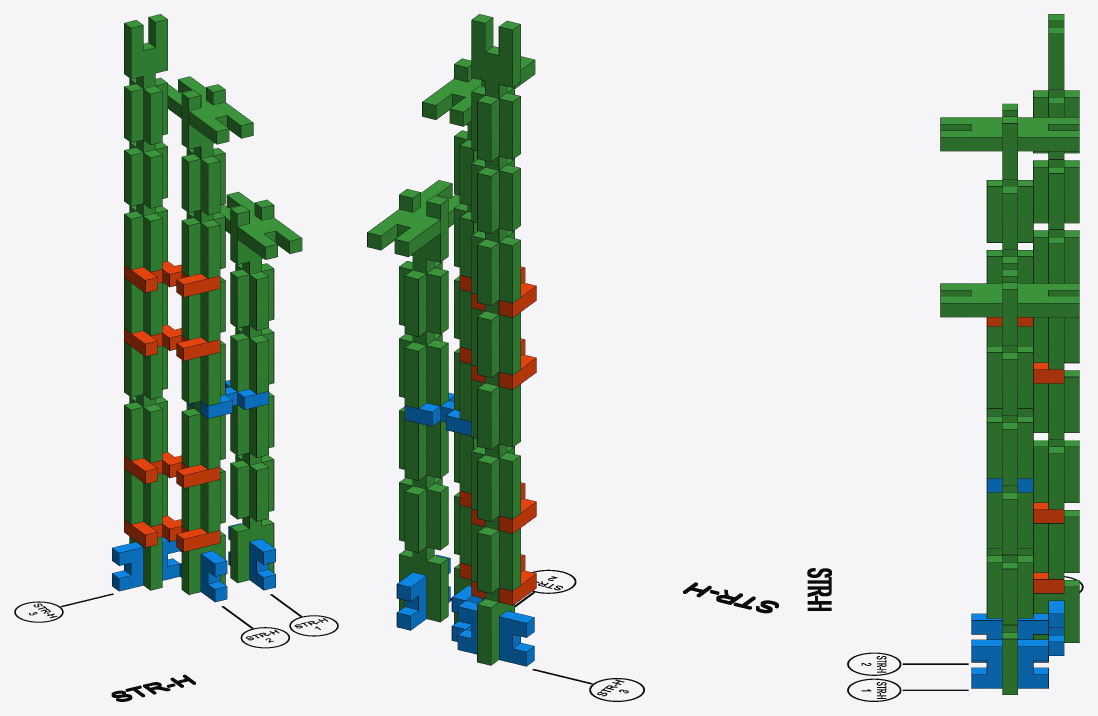
The picture shows the model from 3 angles, left to right: view 1: azimuth 30°, elevation 25°; view 2: azimuth 150°, elevation 25°; view 3: azimuth 270°, elevation 25°; orthographic projection. The views are drawn at different scales.
Visible parts, largest first — view 1: H_SIM (×22), L_SIM (×4), X_SIM (×4); view 2: H_SIM (×22), X_SIM (×3), L_SIM (×4); view 3: H_SIM (×18), X_SIM (×4), L_SIM (×3).
Part boxes in pixels (x1,y1,x2,y2): H_SIM (×22): (124,14,301,594); L_SIM (×4): (124,261,219,551); X_SIM (×4): (112,380,275,601); H_SIM (×22): (367,14,534,665); X_SIM (×3): (397,393,534,665); L_SIM (×4): (460,267,536,605); H_SIM (×18): (941,14,1079,694); X_SIM (×4): (971,478,1063,688); L_SIM (×3): (1033,363,1063,592).
Size of the model in its own units: 2.63 by 5.77 by 2.33.
